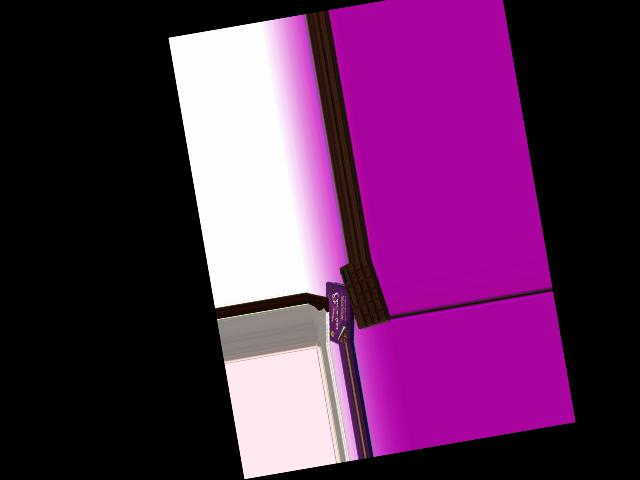chocolate: (338, 260, 391, 330)
